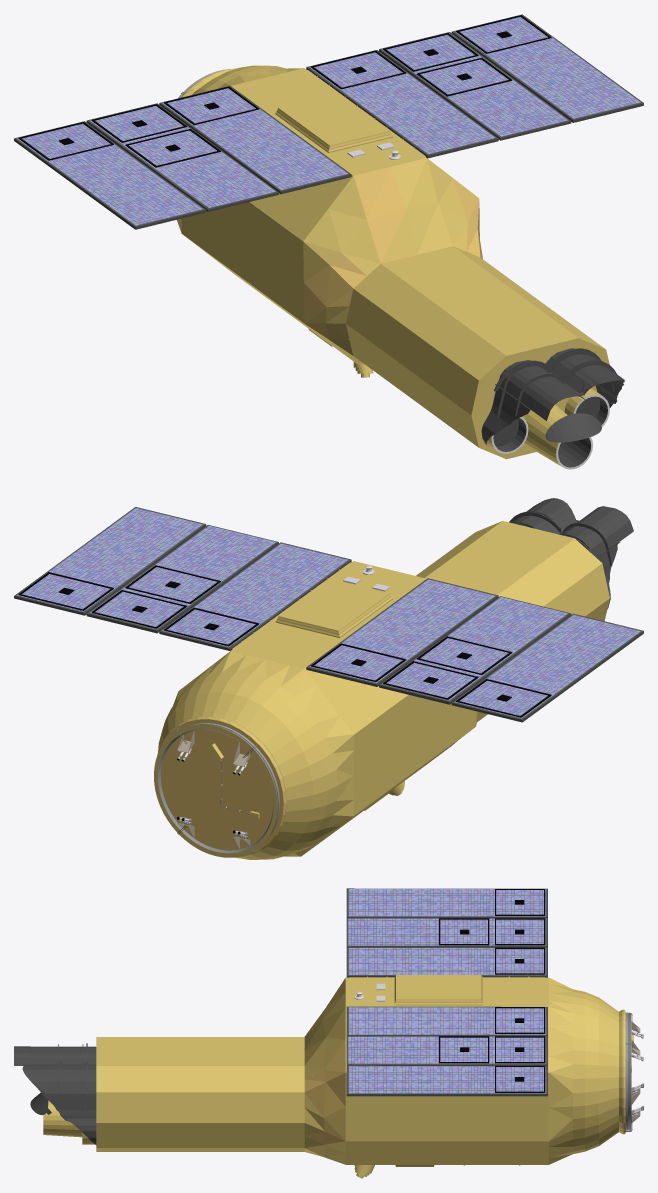
File: suzaku.glb
The picture shows the model from 3 angles, top to bottom: view 1: azimuth 30°, elevation 25°; view 2: azimuth 150°, elevation 25°; view 3: azimuth 270°, elevation 25°; orthographic projection. The views are drawn at different scales.
Parts seen in each view (by area): view 1: Layer_0; view 2: Layer_0; view 3: Layer_0.
Part boxes in pixels (x1,y1,x2,y2): Layer_0: (14,14,643,469); Layer_0: (14,498,643,859); Layer_0: (14,888,643,1178).
Size of the model in its own units: 5.22 by 2.16 by 6.75.
2 materials, 2 textured.
